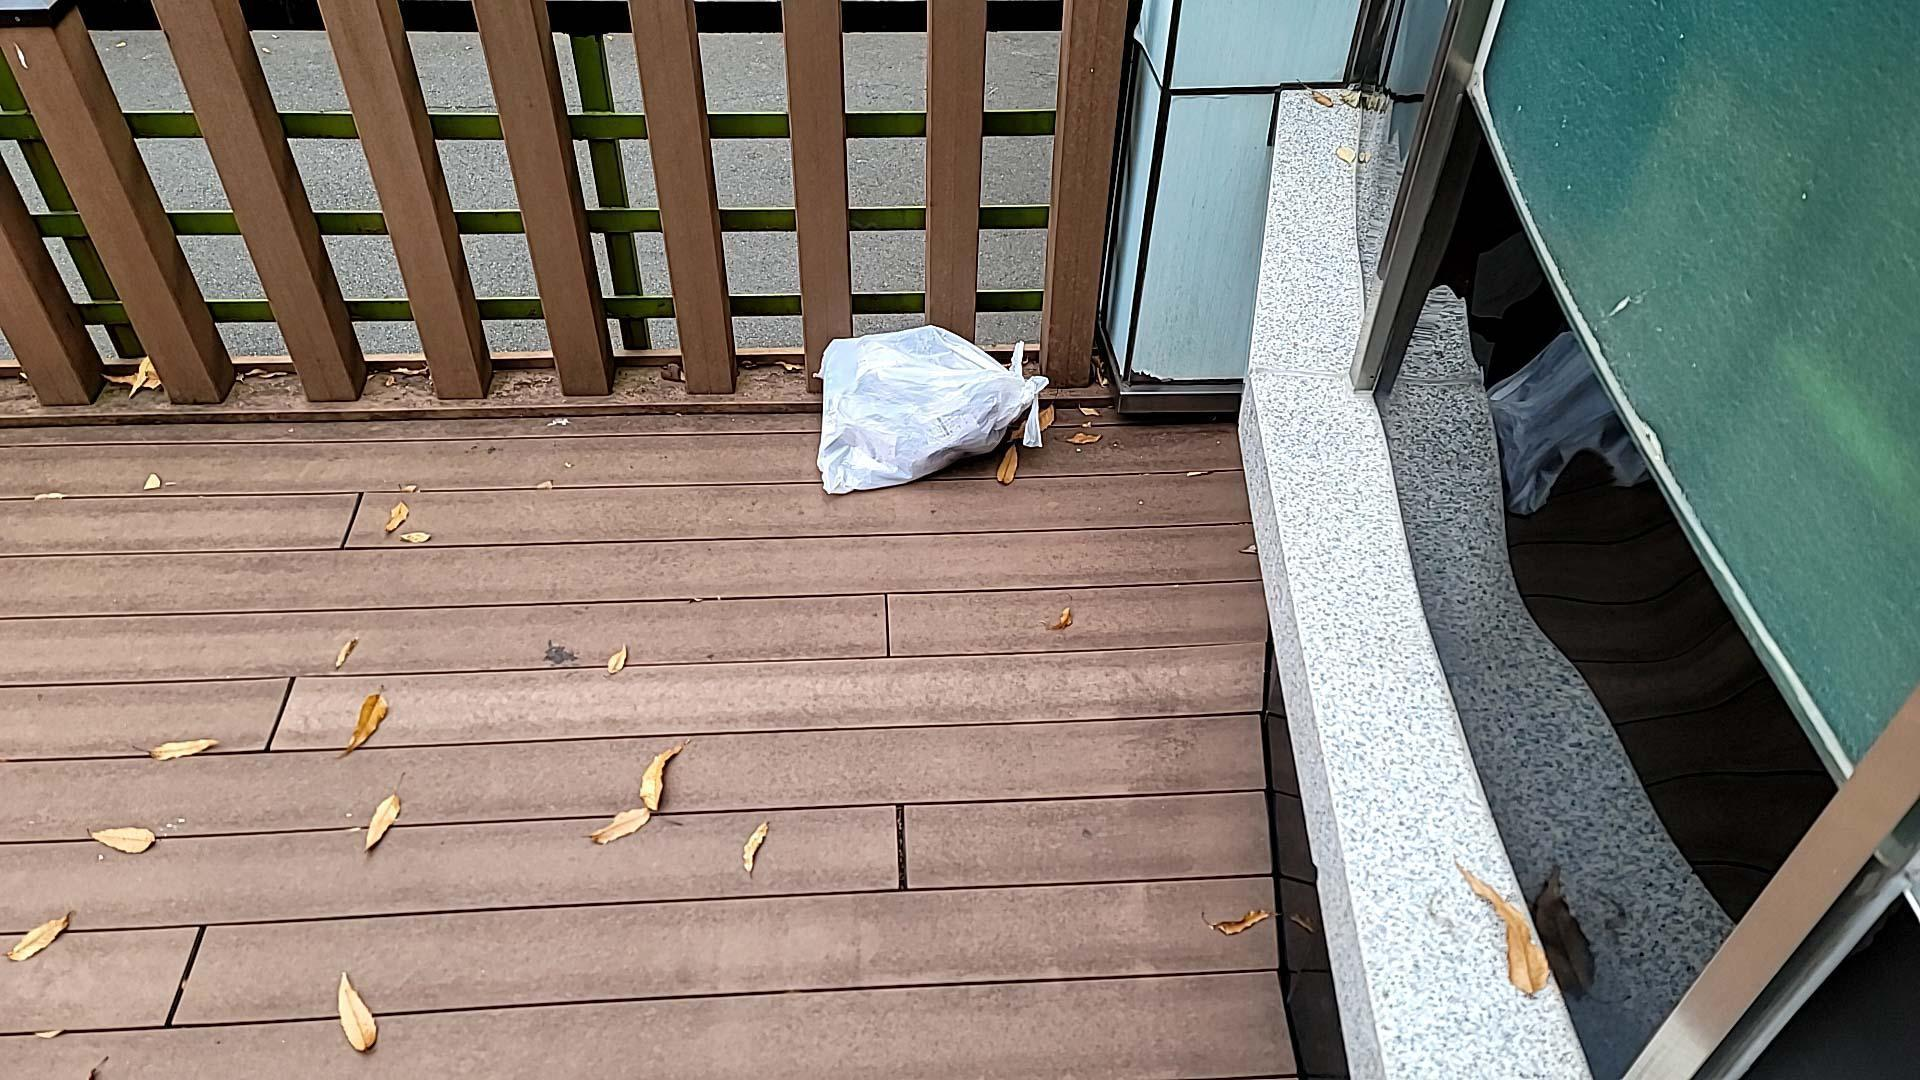white_bag: (803, 315, 1054, 502)
